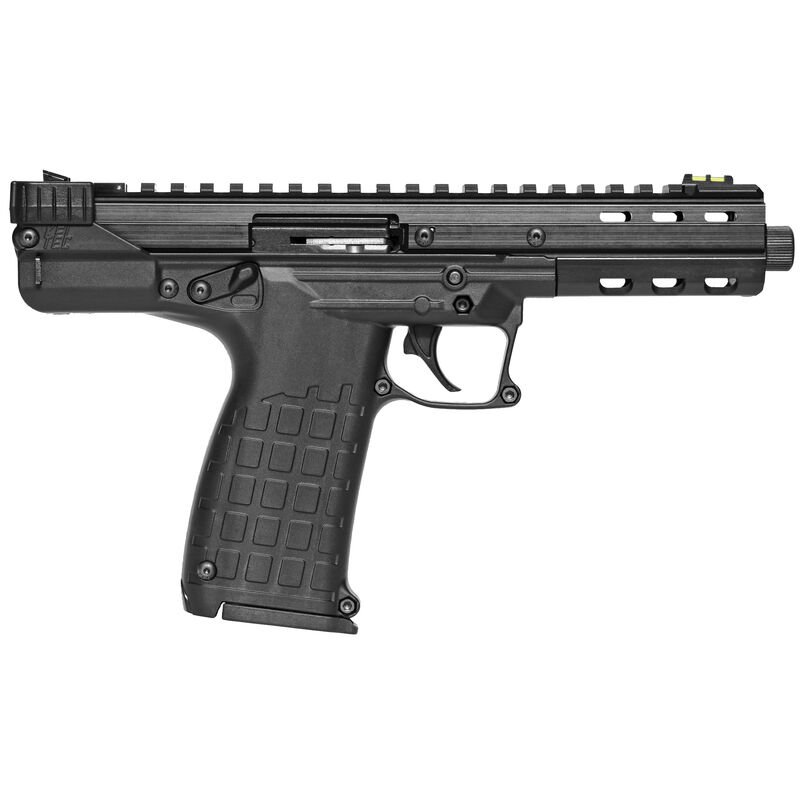pistol: (1, 165, 794, 642)
